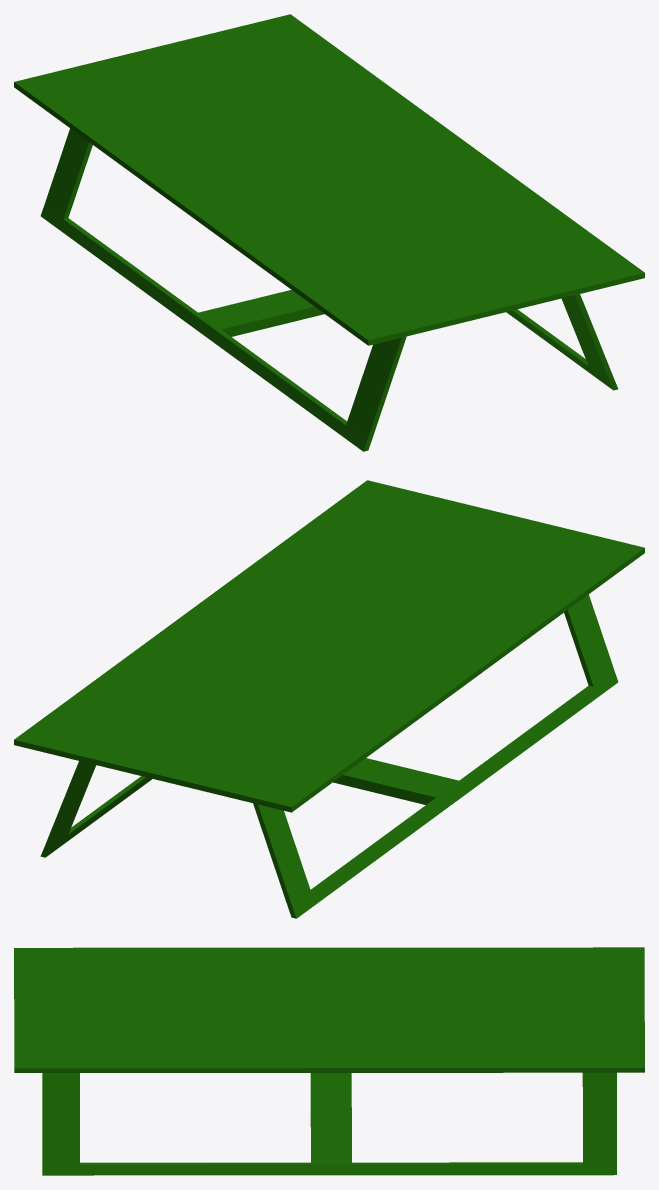
File: tabless.gltf
3 views of the same model, one above another, from view 1: azimuth 30°, elevation 25°; view 2: azimuth 150°, elevation 25°; view 3: azimuth 270°, elevation 25° (orthographic). The views are drawn at different scales.
Parts seen in each view (by area): view 1: Table; view 2: Table; view 3: Table.
Boxes of the visible parts, box(x1,y1,x2,y2) form: Table: box(14, 14, 644, 451); Table: box(14, 480, 644, 918); Table: box(14, 947, 644, 1175).
Bounding box in the file's own units: 0.4104 × 0.1771 × 0.9053.
